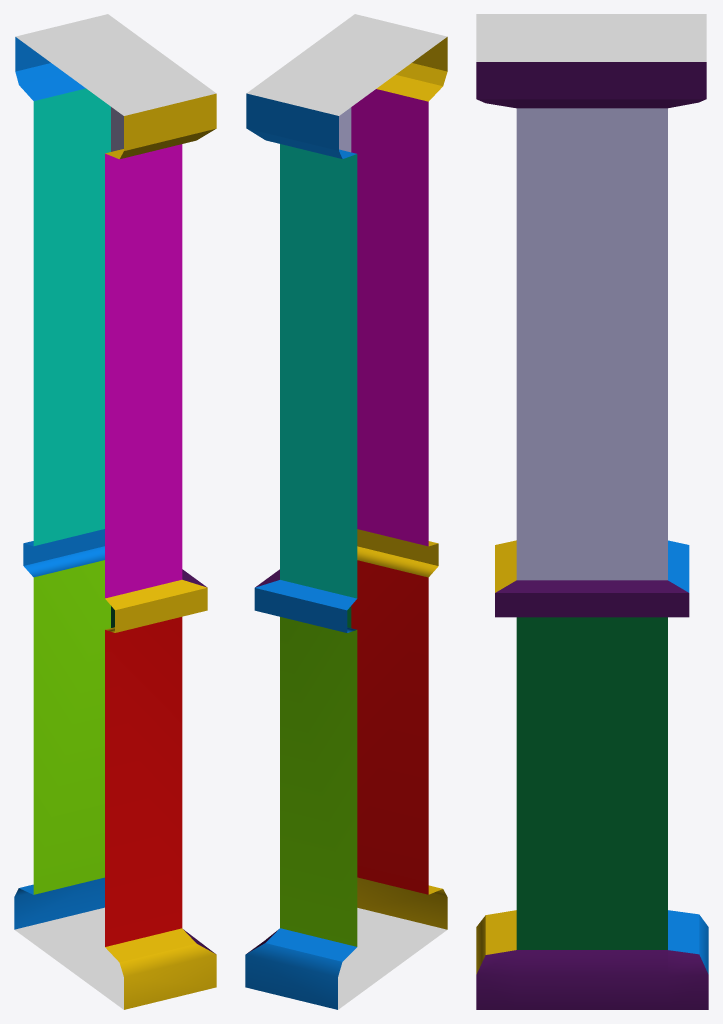
File: Wall_0.25m_End.fbx
3 views of the same model, side by side, from view 1: azimuth 30°, elevation 25°; view 2: azimuth 150°, elevation 25°; view 3: azimuth 270°, elevation 25° (orthographic). The views are drawn at different scales.
Parts seen in each view (by area): view 1: wall_1m_end; view 2: wall_1m_end; view 3: wall_1m_end.
Boxes of the visible parts, bbox=[...] form: wall_1m_end: bbox=[14, 14, 216, 1009]; wall_1m_end: bbox=[245, 14, 447, 1009]; wall_1m_end: bbox=[476, 14, 708, 1009].
Bounding box in the file's own units: 24.38 × 225 × 49.93.
